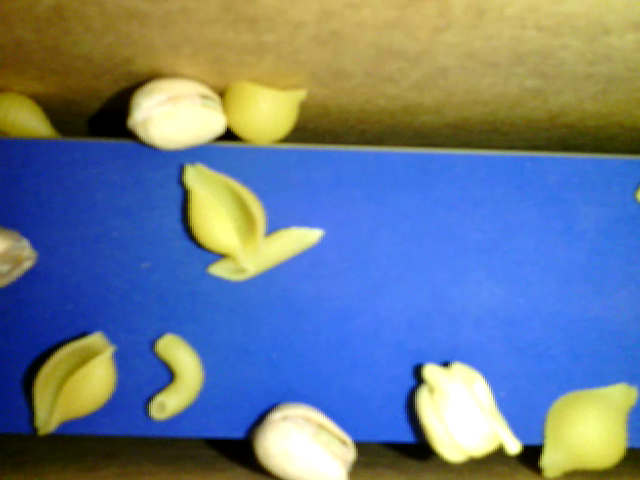elbow: (145, 329, 207, 420)
penne: (207, 227, 324, 280)
shell: (537, 379, 639, 477), (183, 160, 267, 270), (32, 330, 118, 437), (221, 83, 309, 147), (1, 91, 66, 139)
tortellini: (413, 358, 520, 466)
